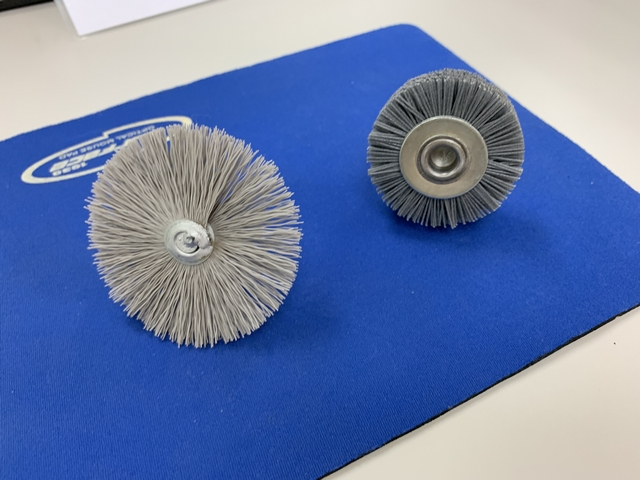TOOL: (75, 117, 311, 355)
Wheel Brush: (359, 62, 532, 241)
